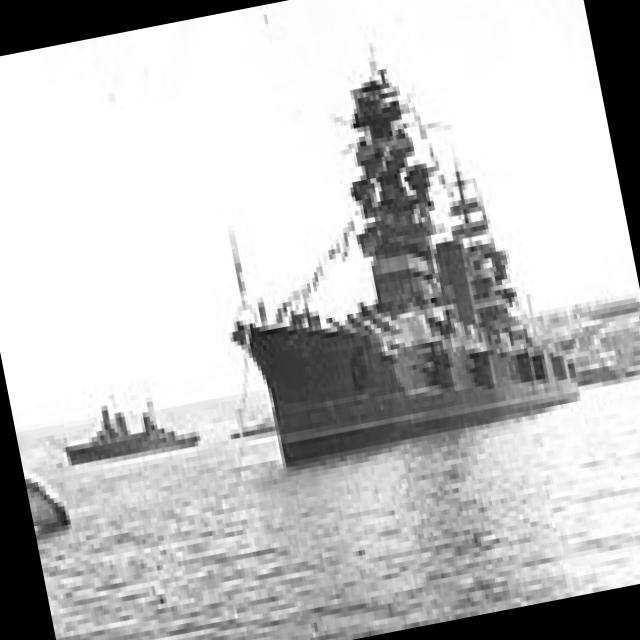boat: (203, 148, 598, 464)
